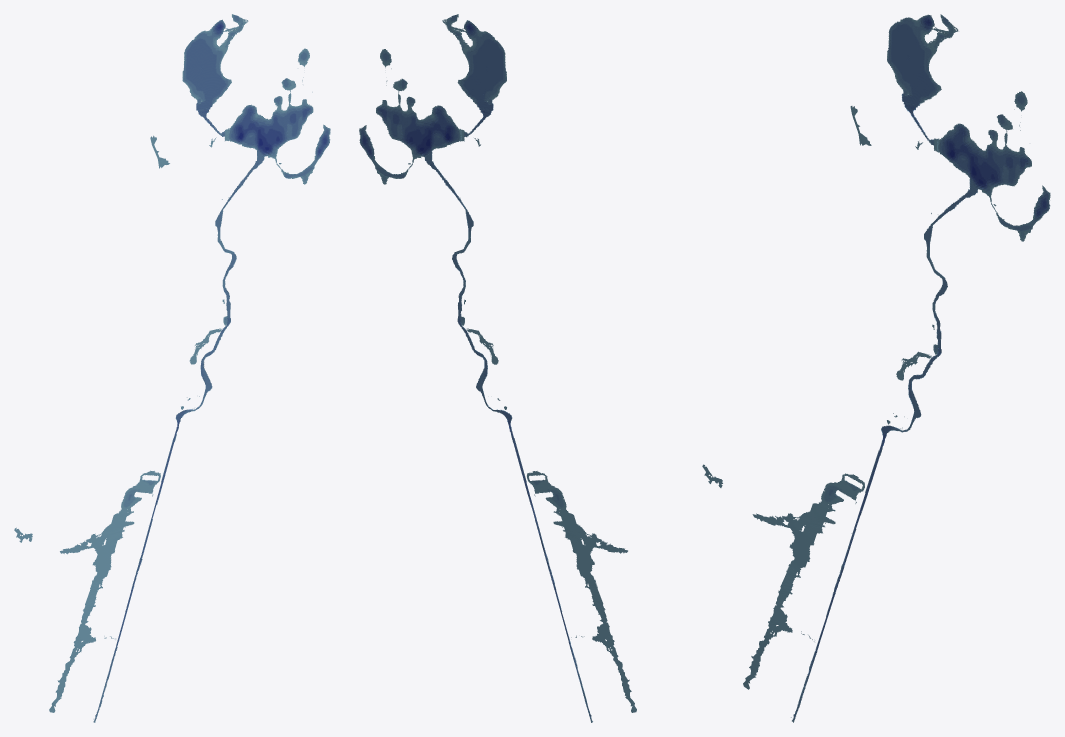
File: triangle_mesh.glb
3 views of the same model, side by side, from view 1: azimuth 30°, elevation 25°; view 2: azimuth 150°, elevation 25°; view 3: azimuth 330°, elevation 25° (orthographic). The views are drawn at different scales.
Parts seen in each view (by area): view 1: world; view 2: world; view 3: world.
Boxes of the visible parts, box(x1,y1,x2,y2) form: world: box(14, 14, 330, 722); world: box(359, 14, 636, 722); world: box(702, 14, 1050, 722).
Bounding box in the file's own units: 1339 × 2739 × 16.12.
